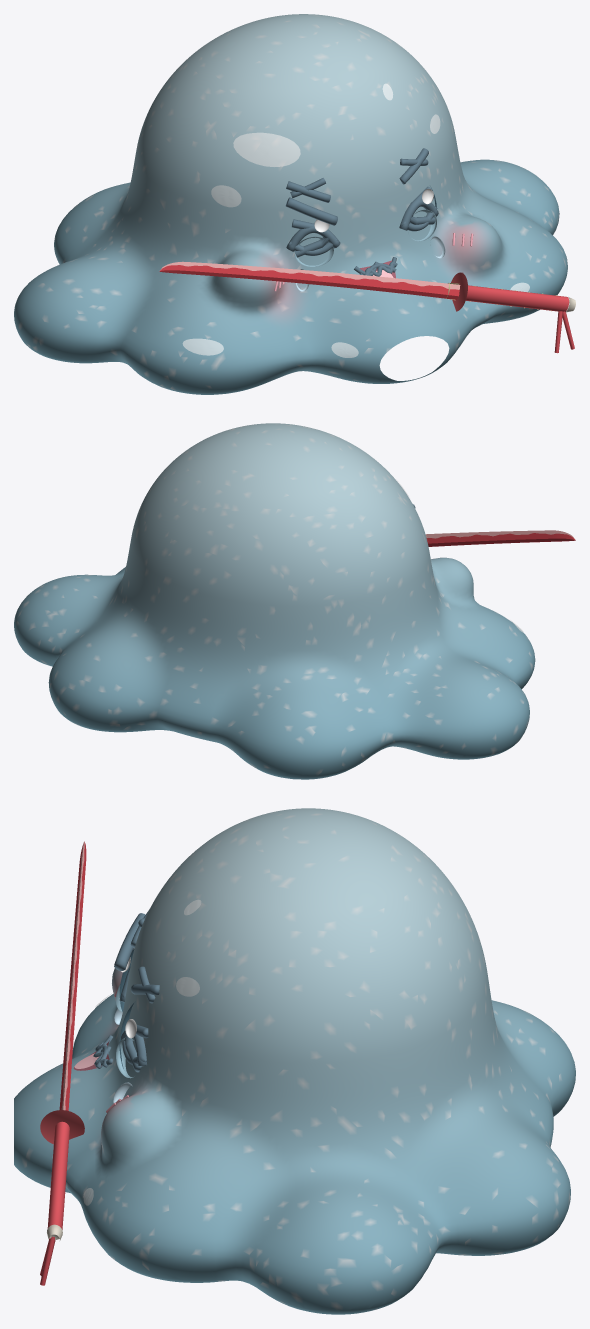
The model's file is w_katana_red_slime.glb.
3 renders of one model, top to bottom at view 1: azimuth 30°, elevation 25°; view 2: azimuth 150°, elevation 25°; view 3: azimuth 270°, elevation 25°, orthographic. The views are drawn at different scales.
Visible parts, largest first — view 1: BodyMesh, face_eyes_happy, face_eyes_normal, face_brows_angry, face_eyes_strain, face_brow_smug; view 2: BodyMesh; view 3: BodyMesh, face_eyes_normal.
Part boxes in pixels (x1,y1,x2,y2): BodyMesh: (14,14,575,394); face_eyes_happy: (286,199,438,251); face_eyes_normal: (294,186,436,266); face_brows_angry: (286,148,428,202); face_eyes_strain: (291,186,435,257); face_brow_smug: (285,197,337,225); BodyMesh: (14,423,575,779); BodyMesh: (14,808,575,1314); face_eyes_normal: (116,948,136,1078).
Bounding box in the file's own units: 2.93 × 1.51 × 2.17.
